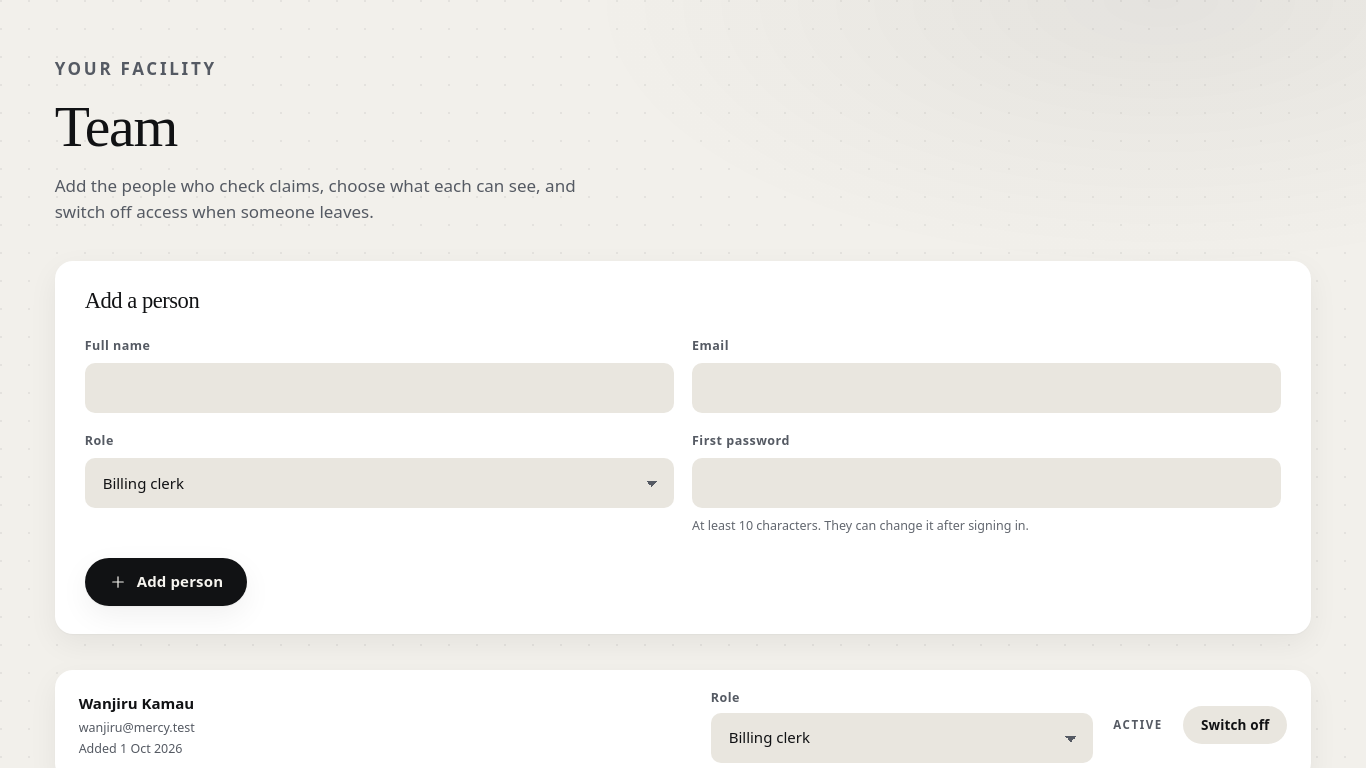
Test: TeamPage › shows the server's reason when the change is refused
Click the button "Switch off" at (1235, 725), box [1183, 706, 1287, 744]
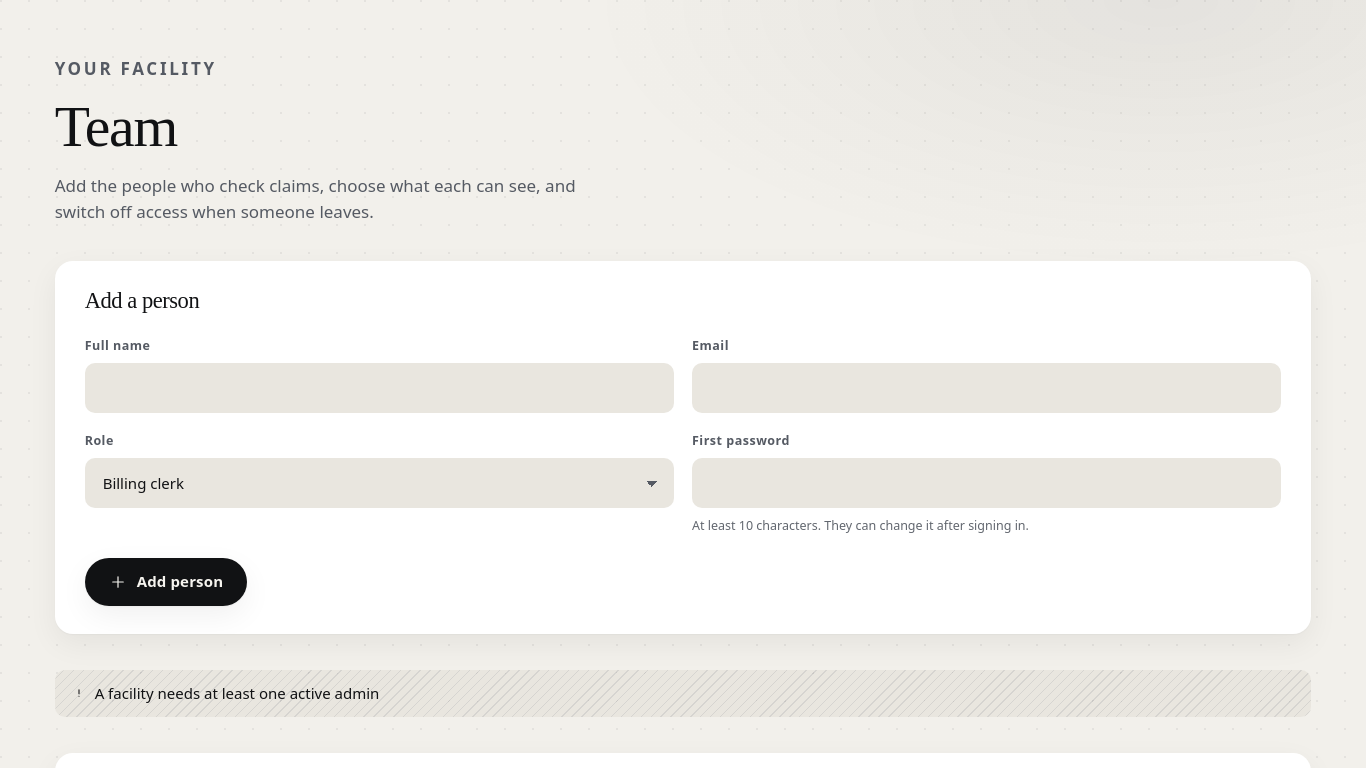
Expected: the message shows "at least one active admin", [95, 683, 379, 703]
